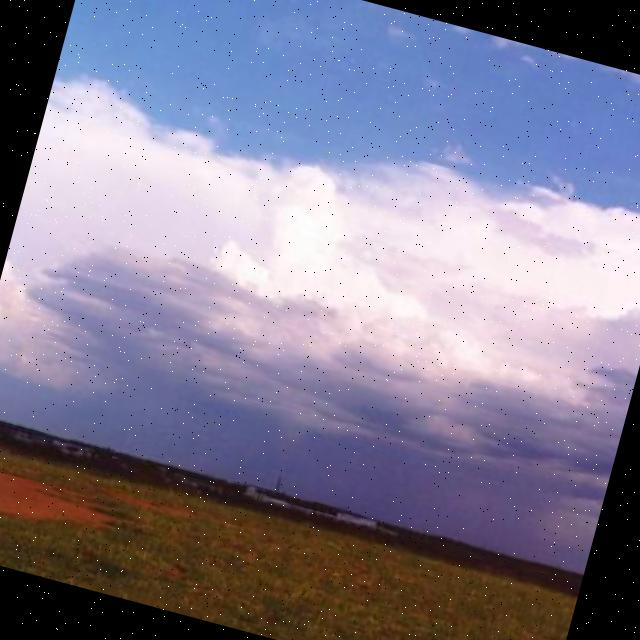Sc: (1, 154, 640, 532)
